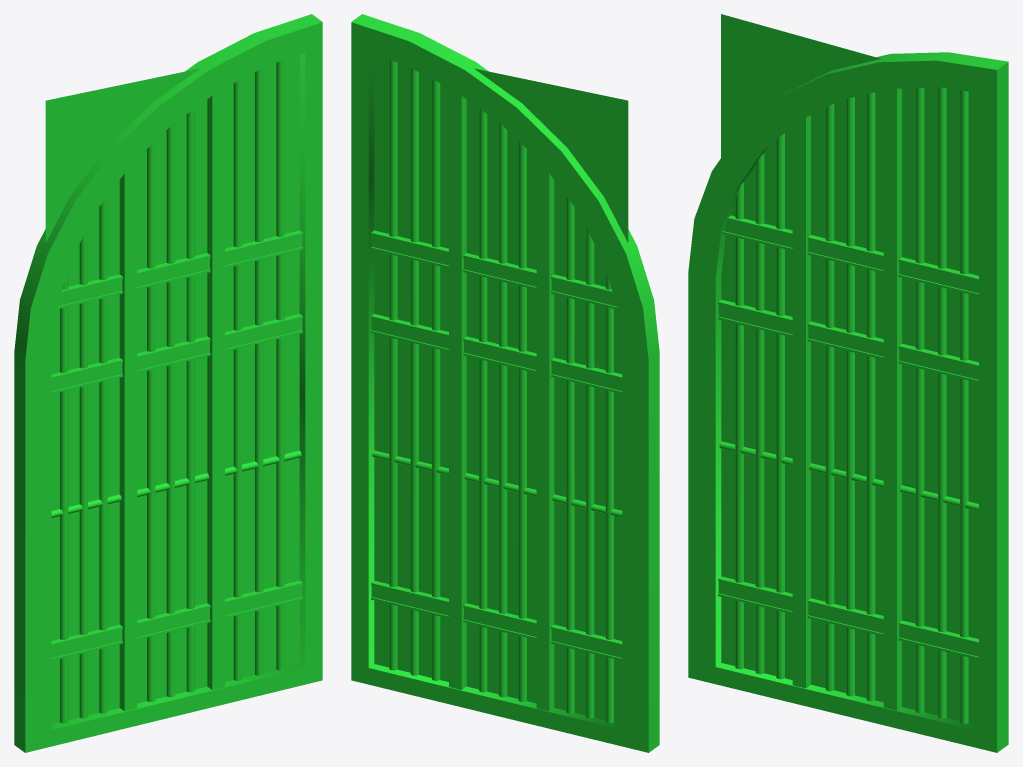
File: door_left.fbx
3 views of the same model, side by side, from view 1: azimuth 30°, elevation 25°; view 2: azimuth 150°, elevation 25°; view 3: azimuth 330°, elevation 25° (orthographic). The views are drawn at different scales.
Visible parts, largest first — view 1: SM_irongate_L; view 2: SM_irongate_L; view 3: SM_irongate_L.
Part boxes in pixels (bbox=[...]): SM_irongate_L: bbox=[14, 14, 322, 752]; SM_irongate_L: bbox=[351, 14, 659, 752]; SM_irongate_L: bbox=[688, 14, 1008, 752].
Size of the model in its own units: 187 by 395 by 12.
